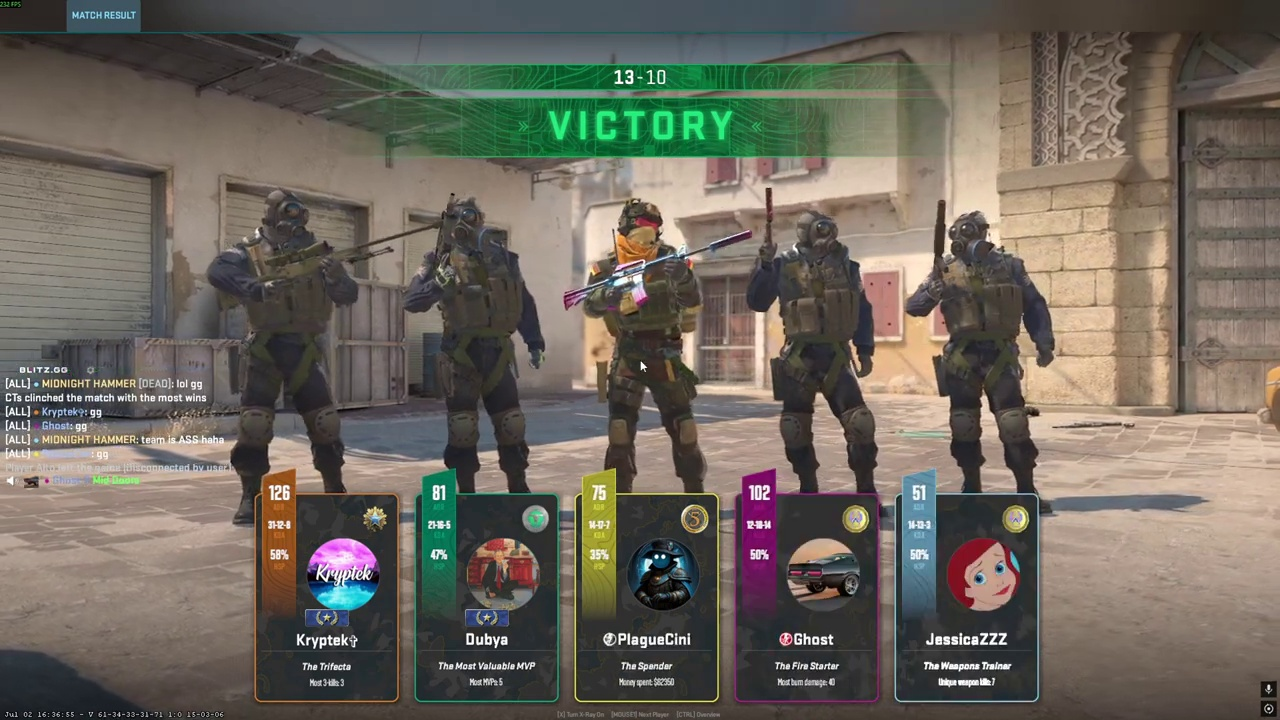CT: (218, 189, 351, 520), (926, 211, 1041, 513), (590, 198, 705, 492), (424, 195, 535, 494), (762, 209, 876, 494)
